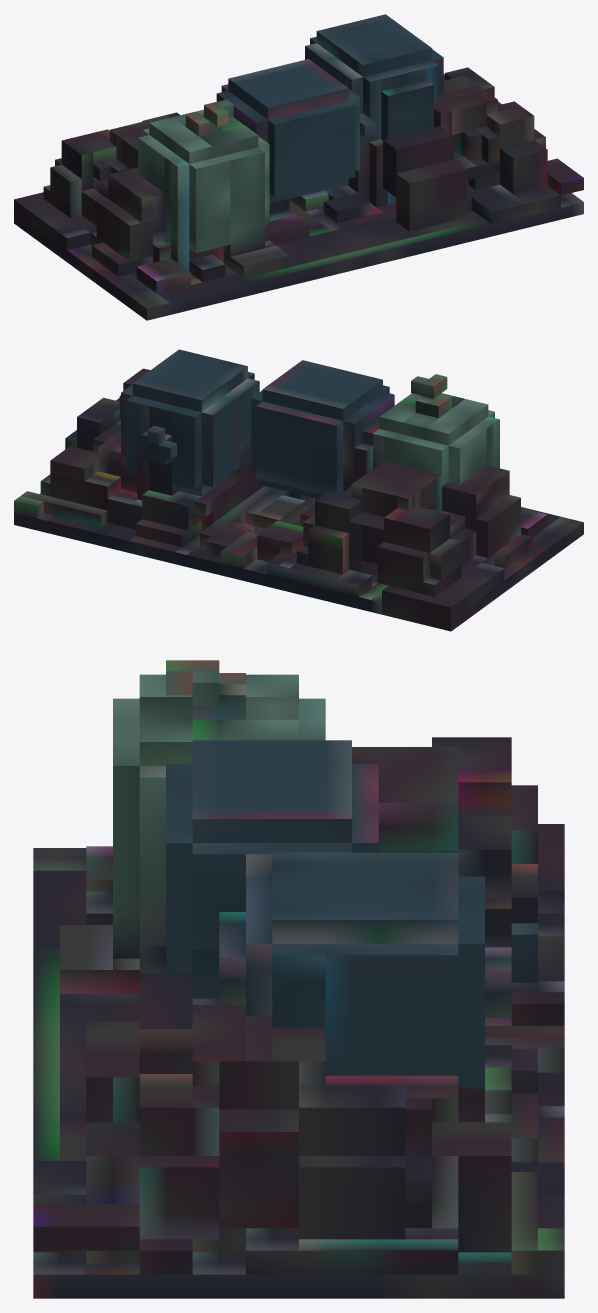
Rendered from Garbage_A_00.fbx.
The picture shows the model from 3 angles, top to bottom: view 1: azimuth 30°, elevation 25°; view 2: azimuth 150°, elevation 25°; view 3: azimuth 270°, elevation 25°; orthographic projection. The views are drawn at different scales.
Parts seen in each view (by area): view 1: Garbage_A_00; view 2: Garbage_A_00; view 3: Garbage_A_00.
Boxes of the visible parts, x1,y1,x2,y2 form: Garbage_A_00: (14, 14, 583, 320); Garbage_A_00: (14, 349, 583, 631); Garbage_A_00: (33, 660, 564, 1298).
Size of the model in its own units: 190 by 65 by 100.
